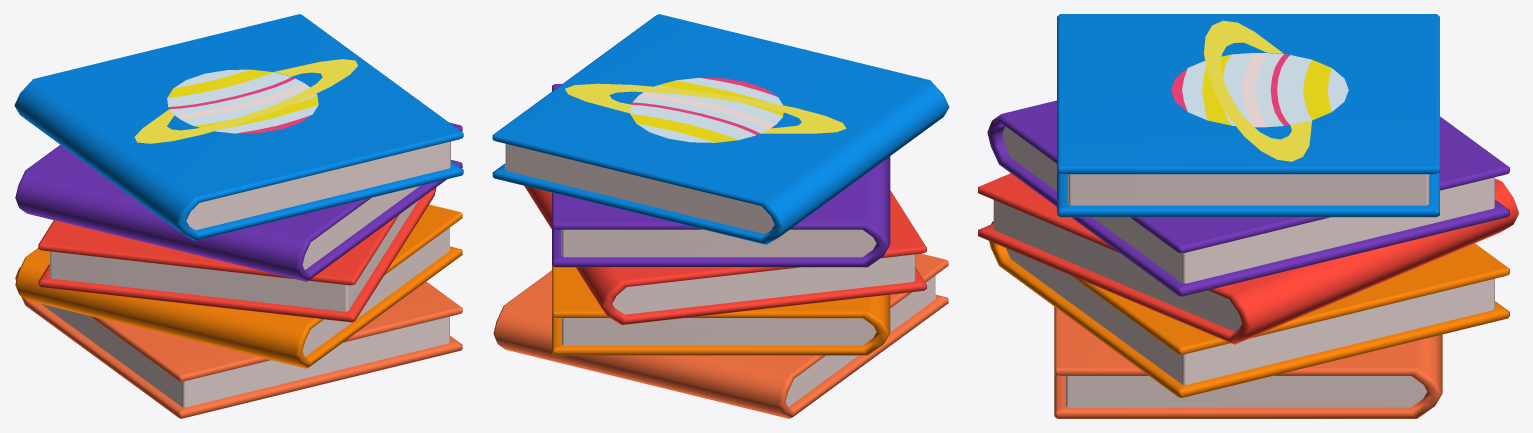
The model's file is Public_17_Books_1.glb.
3 views of the same model, side by side, from view 1: azimuth 30°, elevation 25°; view 2: azimuth 150°, elevation 25°; view 3: azimuth 270°, elevation 25° (orthographic). The views are drawn at different scales.
Visible parts, largest first — view 1: Public_17_Books_1; view 2: Public_17_Books_1; view 3: Public_17_Books_1.
Part boxes in pixels (box(x1,y1,x2,y2)): Public_17_Books_1: box(14, 14, 463, 418); Public_17_Books_1: box(492, 14, 949, 418); Public_17_Books_1: box(978, 14, 1518, 418).
Bounding box in the file's own units: 1.52 × 0.7903 × 1.52.
Materials: 1 (1 with a texture image).
